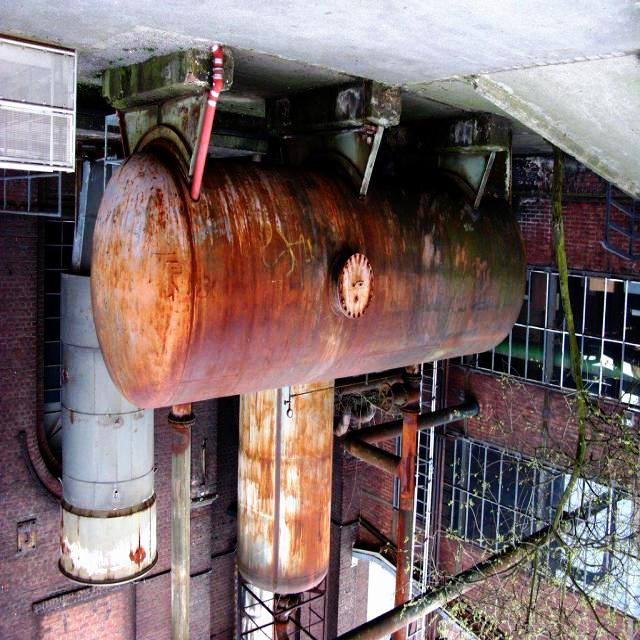Corrosion: (89, 141, 528, 640), (127, 544, 145, 567), (59, 358, 66, 392)
